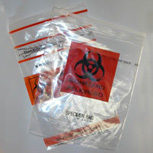plastic bag: (7, 5, 146, 153)
